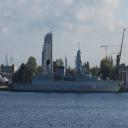Fragata: (11, 40, 125, 93)
